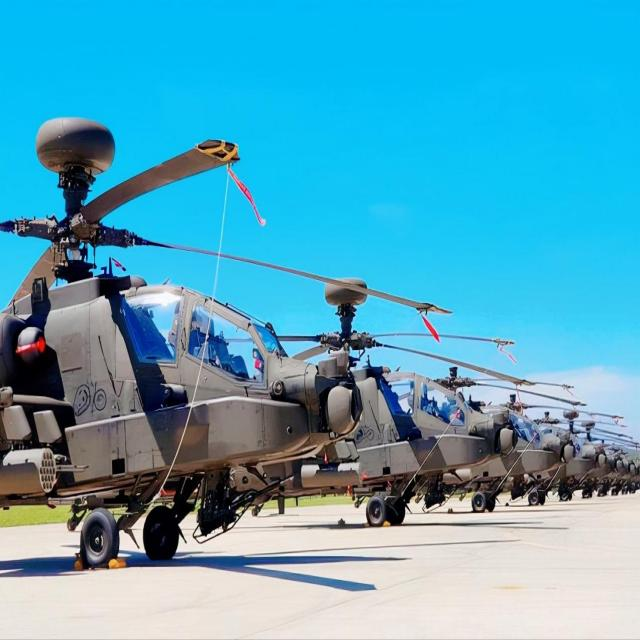MIL_HELO: (4, 101, 373, 558), (249, 254, 520, 529), (415, 317, 579, 516)
